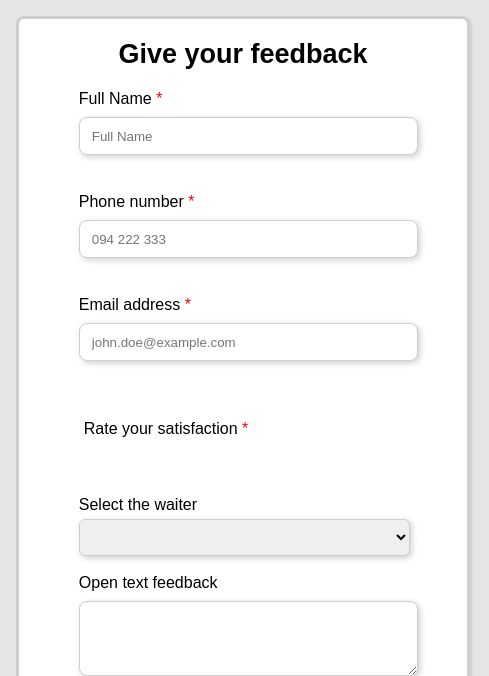
Test case: SurveyForm › Input fields › invalid input message is shown when an invalid input is entered
In the field with test id "fullName": coordinates (248, 136) x1=79 y1=117 x2=418 y2=155, type "Test1"
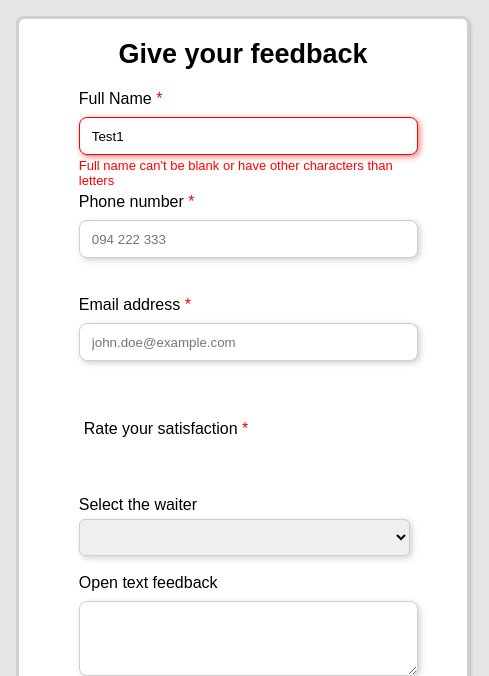
Expected: the text with test id "fullNameError" reads "Full name can't be blank or have other characters than letters", x1=79 y1=158 x2=393 y2=188
